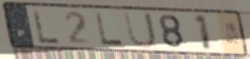1: (193, 13, 215, 52)
2: (63, 10, 92, 45)
8: (158, 14, 186, 49)
L: (30, 7, 62, 45), (94, 11, 125, 47)
U: (121, 10, 158, 50)
